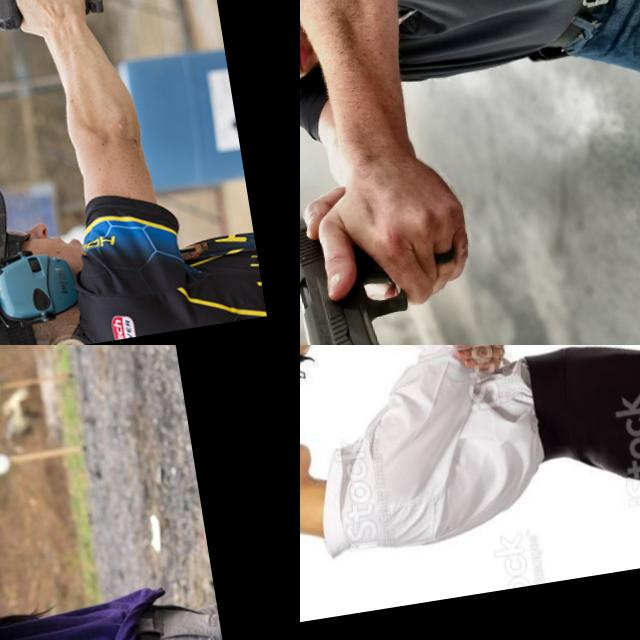handgun: (300, 199, 438, 345), (0, 0, 113, 67), (0, 361, 52, 476), (300, 345, 338, 400)
